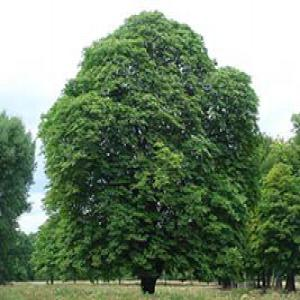Tree: (37, 7, 263, 291)
